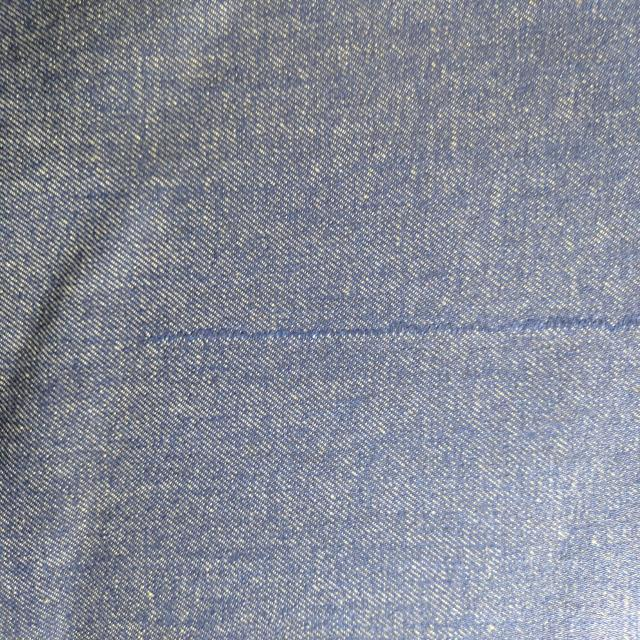Line: (139, 314, 638, 343)
